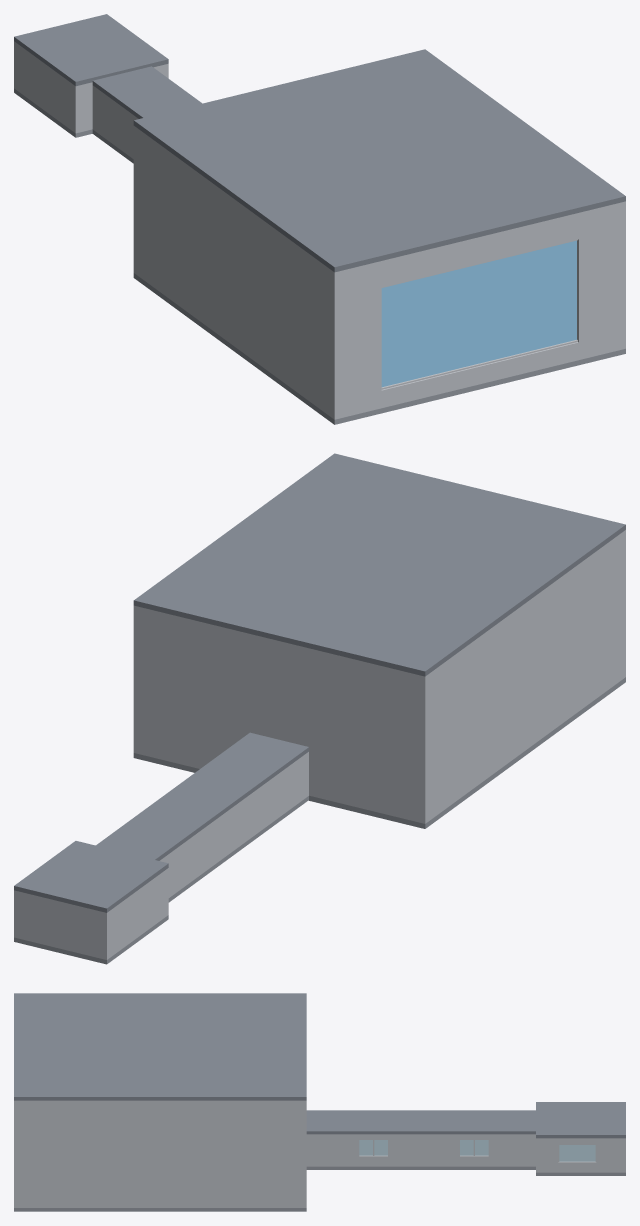
File: station_interior.fbx
3 renders of one model, top to bottom at view 1: azimuth 30°, elevation 25°; view 2: azimuth 150°, elevation 25°; view 3: azimuth 270°, elevation 25°, orthographic. The views are drawn at different scales.
Parts seen in each view (by area): view 1: station_interior; view 2: station_interior; view 3: station_interior.
Boxes of the visible parts, <box> form: station_interior: <box>14,14,625,424</box>; station_interior: <box>14,453,625,964</box>; station_interior: <box>14,993,625,1211</box>.
Bounding box in the file's own units: 20.7 × 10.7 × 51.65.
